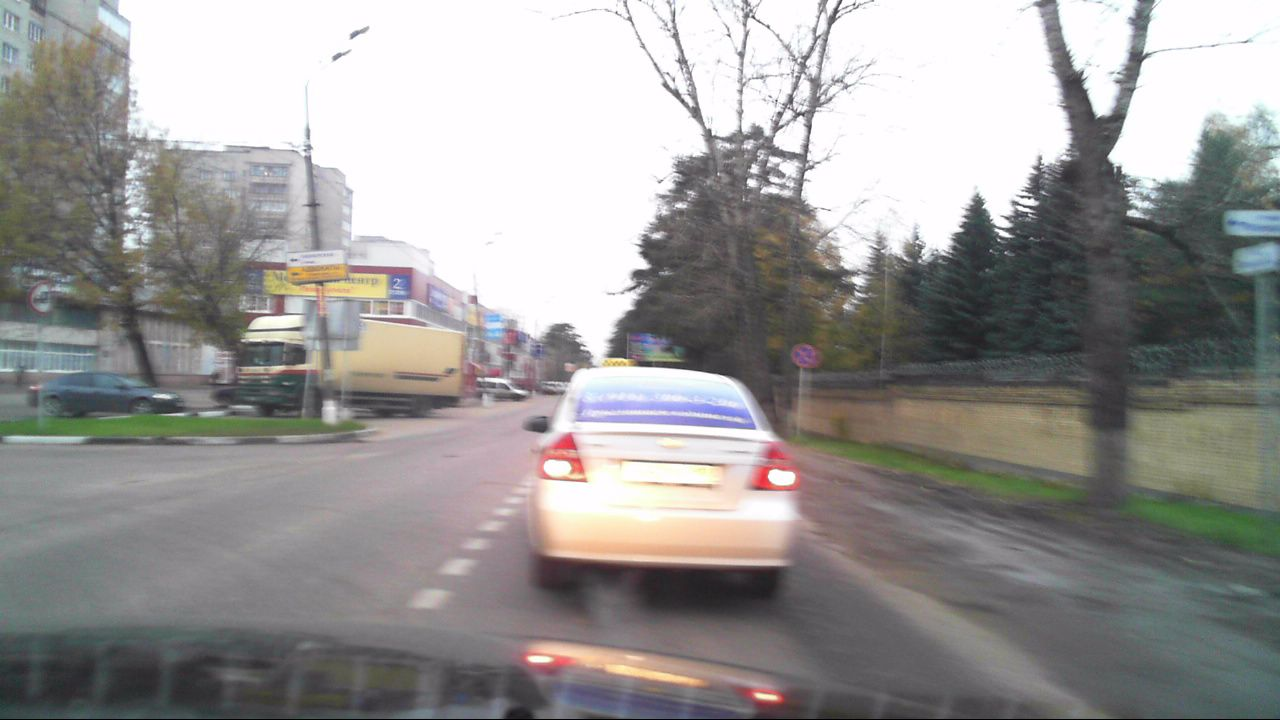No Parking: (791, 344, 814, 368)
